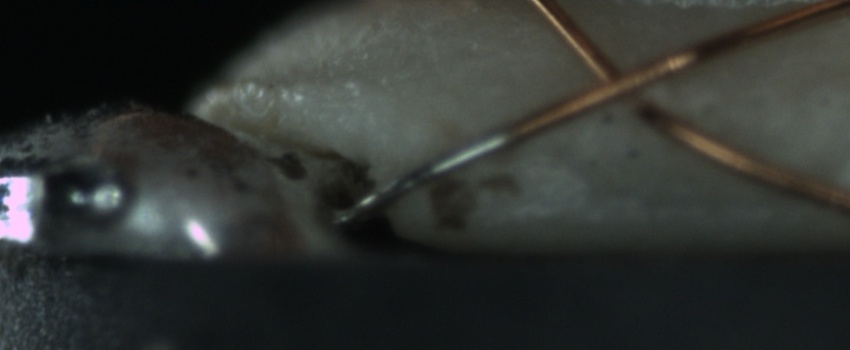CL: (568, 38, 688, 130)
TS: (337, 130, 510, 224)
